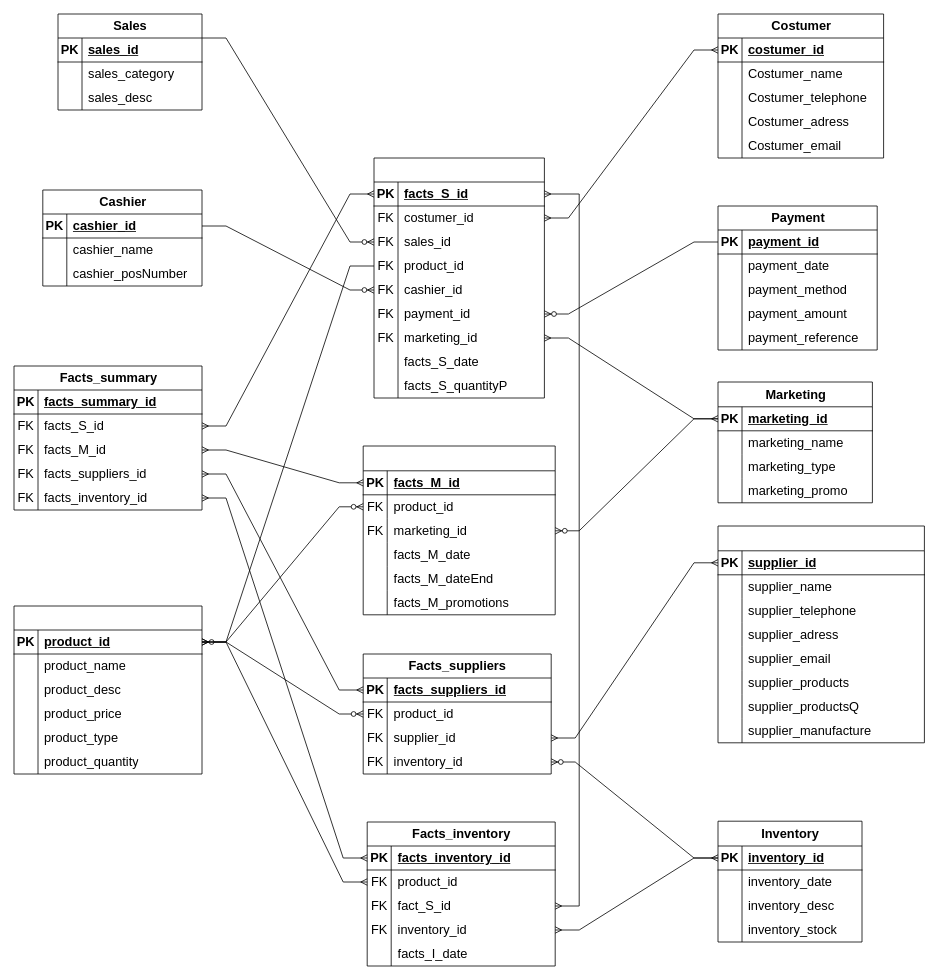
This 938x980 diagram has some shape labels left out. Each missing label, with the box of its shape:
Facts_marketing: (362, 445, 555, 615)
Facts_sales: (373, 157, 544, 398)
Products: (13, 605, 202, 774)
Suppliers: (717, 525, 924, 743)
